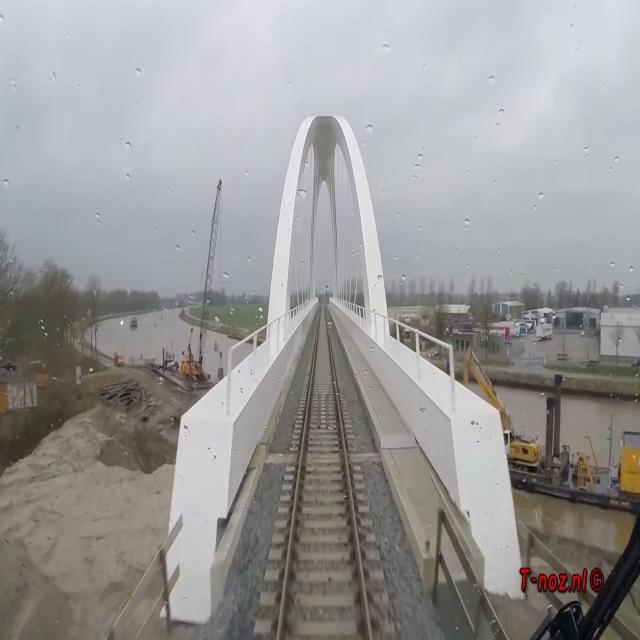rail-track: (280, 302, 368, 639)
